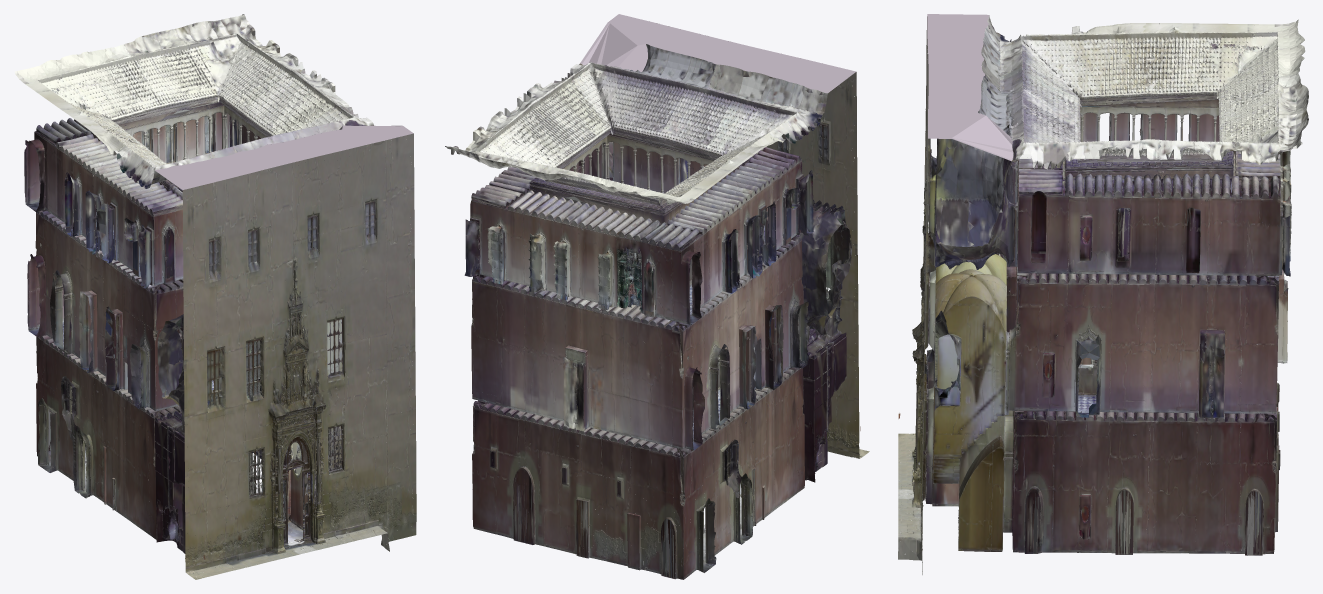
3 views of the same model, side by side, from view 1: azimuth 30°, elevation 25°; view 2: azimuth 150°, elevation 25°; view 3: azimuth 270°, elevation 25° (orthographic). The views are drawn at different scales.
Visible parts, largest first — view 1: Object_2, Object_40, Object_6, Object_32, Object_7, Object_17, Object_26, Object_5, Object_11, Object_39, Object_37, Object_18 (+28 smaller); view 2: Object_5, Object_4, Object_39, Object_8, Object_2, Object_18, Object_50, Object_43, Object_21, Object_28, Object_17, Object_32 (+28 smaller); view 3: Object_2, Object_31, Object_8, Object_29, Object_50, Object_36, Object_12, Object_24, Object_40, Object_18, Object_20, Object_15 (+30 smaller).
Boxes of the visible parts, <box> form: Object_2: <box>14,14,416,579</box>; Object_40: <box>214,163,294,355</box>; Object_6: <box>215,131,386,462</box>; Object_32: <box>165,351,235,577</box>; Object_7: <box>257,229,341,455</box>; Object_17: <box>48,387,270,569</box>; Object_26: <box>134,325,387,552</box>; Object_5: <box>115,131,249,428</box>; Object_11: <box>27,40,356,545</box>; Object_39: <box>27,124,188,517</box>; Object_37: <box>73,76,414,541</box>; Object_18: <box>25,120,148,249</box>; Object_5: <box>497,78,855,483</box>; Object_4: <box>471,231,582,462</box>; Object_39: <box>523,242,782,526</box>; Object_8: <box>449,144,738,561</box>; Object_2: <box>445,44,869,572</box>; Object_18: <box>473,161,776,452</box>; Object_50: <box>580,14,855,93</box>; Object_43: <box>512,161,689,318</box>; Object_21: <box>464,175,828,492</box>; Object_28: <box>490,82,736,393</box>; Object_17: <box>472,388,799,568</box>; Object_32: <box>525,173,865,470</box>; Object_2: <box>898,15,1308,574</box>; Object_31: <box>1103,209,1247,554</box>; Object_8: <box>922,110,1308,438</box>; Object_29: <box>898,139,1210,453</box>; Object_50: <box>927,14,1013,161</box>; Object_36: <box>953,111,1209,537</box>; Object_12: <box>900,136,1279,517</box>; Object_24: <box>1018,102,1255,552</box>; Object_40: <box>922,34,1055,553</box>; Object_18: <box>1083,40,1280,465</box>; Object_20: <box>993,266,1058,436</box>; Object_15: <box>1004,63,1153,459</box>.
Size of the model in its own units: 28.15 by 46.47 by 39.21.
Materials: 2 (1 with a texture image).
